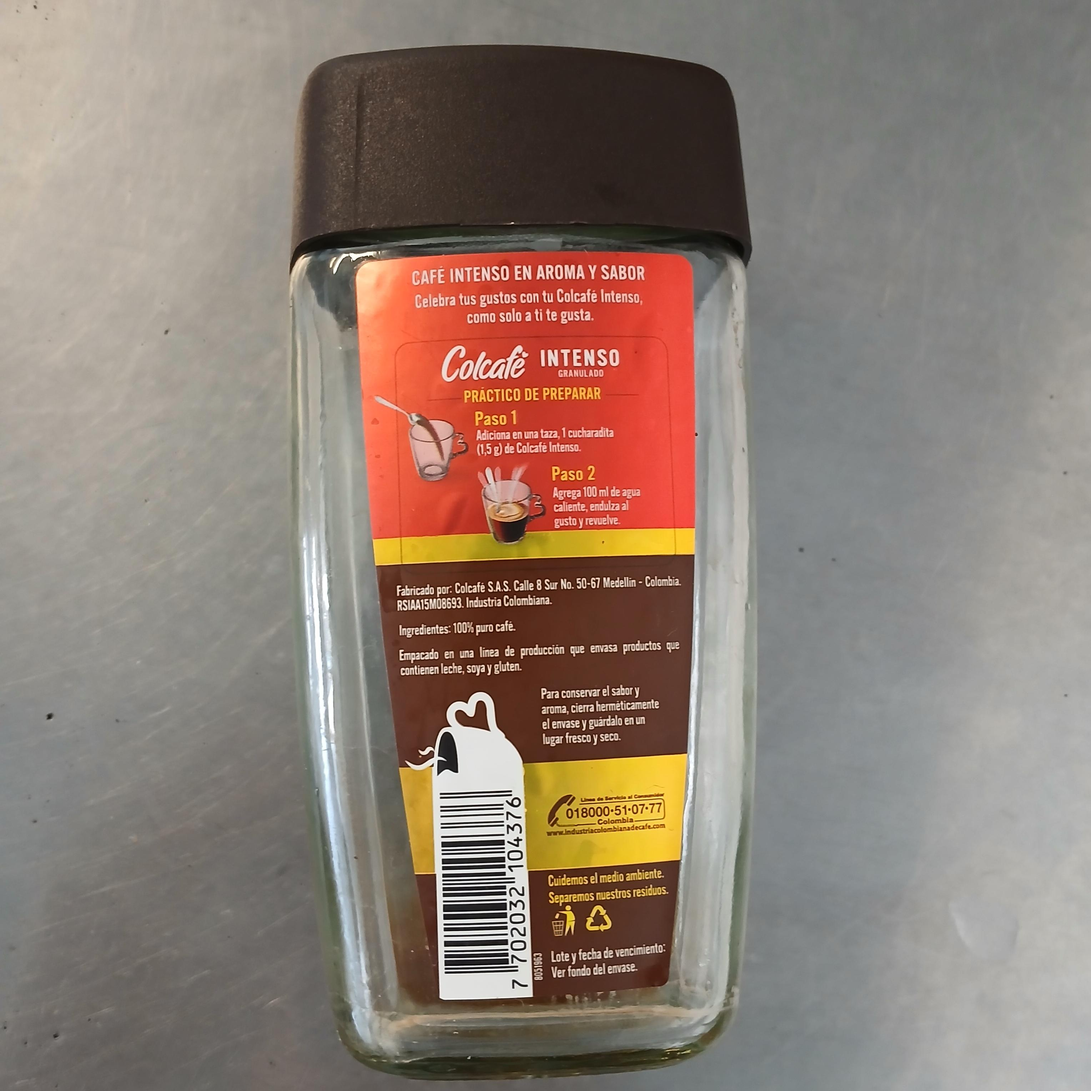Plastico: (297, 46, 752, 228)
Vidrio: (289, 230, 752, 1080)
